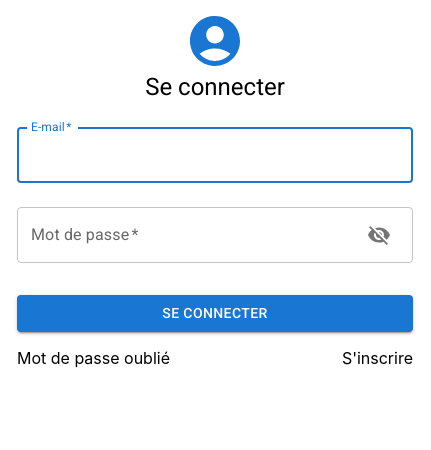
SignIn Component › displays error when password does not meet requirements
The width and height of the screenshot is (431, 450).
In the password field labelled "Mot de passe *": (184, 235) [17, 207, 351, 263], type "short"
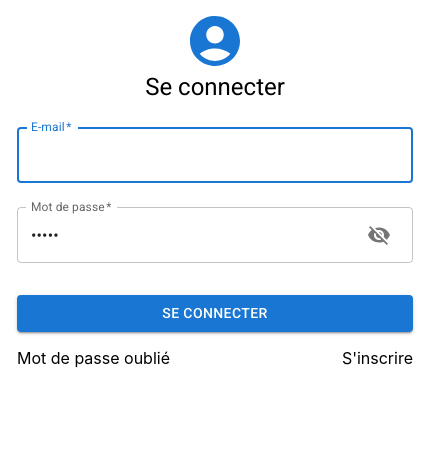
Click the button "Se connecter": (215, 313) [17, 295, 413, 332]
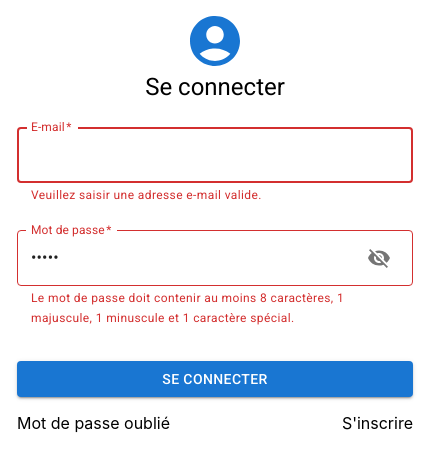
Expected: the text "Le mot de passe doit contenir au moins 8 caractères, 1 majuscule, 1 minuscule et 1 caractère spécial." is shown, [31, 291, 344, 325]
